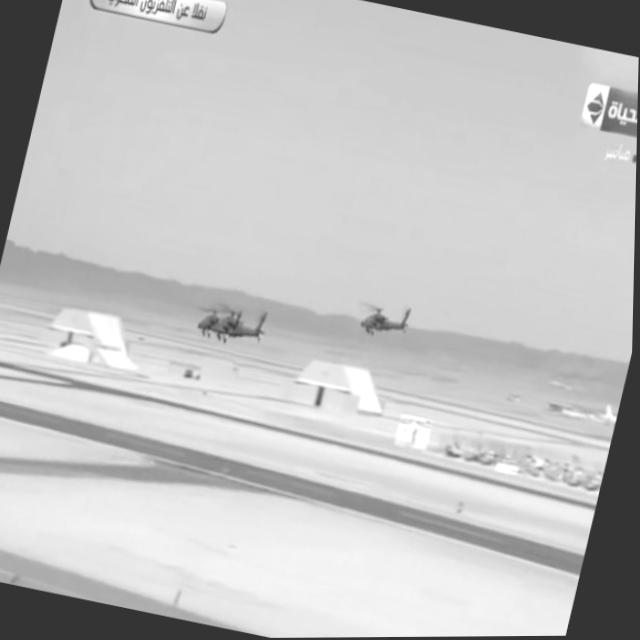helikopter: (186, 280, 282, 367), (345, 280, 433, 370)
